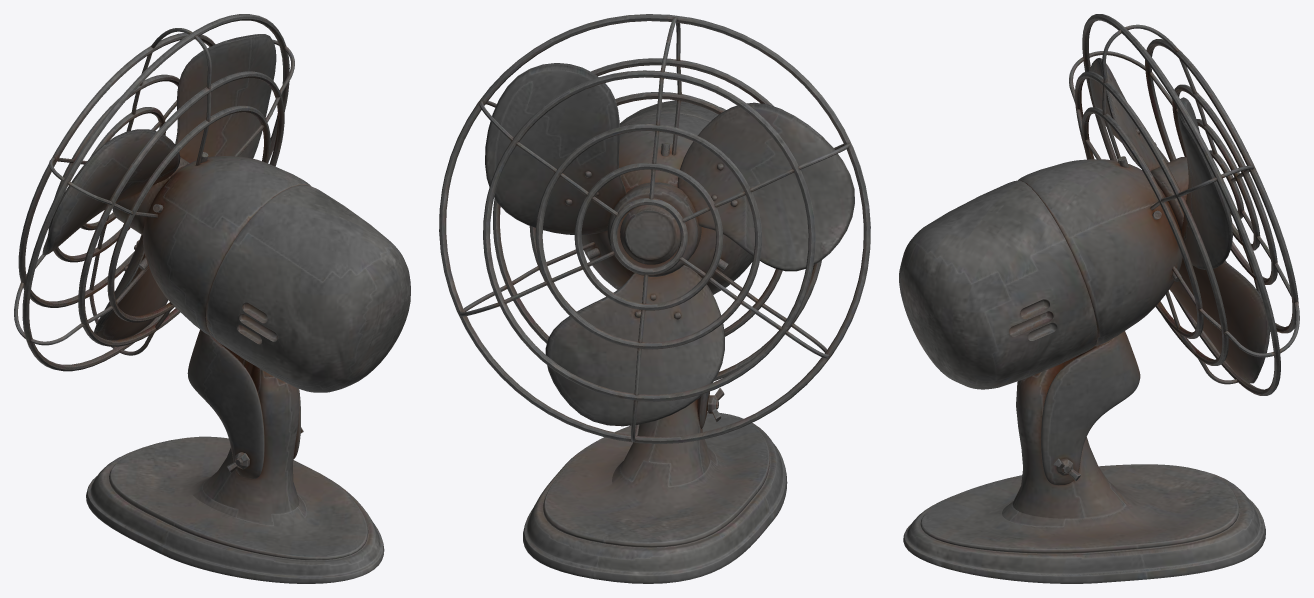
The picture shows the model from 3 angles, left to right: view 1: azimuth 30°, elevation 25°; view 2: azimuth 150°, elevation 25°; view 3: azimuth 270°, elevation 25°; orthographic projection. The views are drawn at different scales.
Visible parts, largest first — view 1: Object_2, Object_5, Object_3, Object_4, Object_6; view 2: Object_5, Object_3, Object_4, Object_6, Object_2; view 3: Object_2, Object_3, Object_5, Object_4, Object_6.
Part boxes in pixels (box(x1,y1,x2,y2)): Object_2: box(124, 152, 410, 478); Object_5: box(14, 16, 315, 583); Object_3: box(109, 157, 368, 560); Object_4: box(80, 107, 384, 583); Object_6: box(19, 14, 294, 370); Object_5: box(479, 17, 854, 441); Object_3: box(543, 182, 769, 547); Object_4: box(459, 143, 787, 583); Object_6: box(439, 14, 870, 443); Object_2: box(565, 100, 753, 428); Object_2: box(899, 128, 1182, 485); Object_3: box(920, 157, 1239, 553); Object_5: box(1050, 16, 1298, 583); Object_4: box(903, 119, 1299, 583); Object_6: box(1081, 14, 1299, 395).
Bounding box in the file's own units: 1.06 × 1.49 × 1.09.
Materials: 1 (1 with a texture image).
